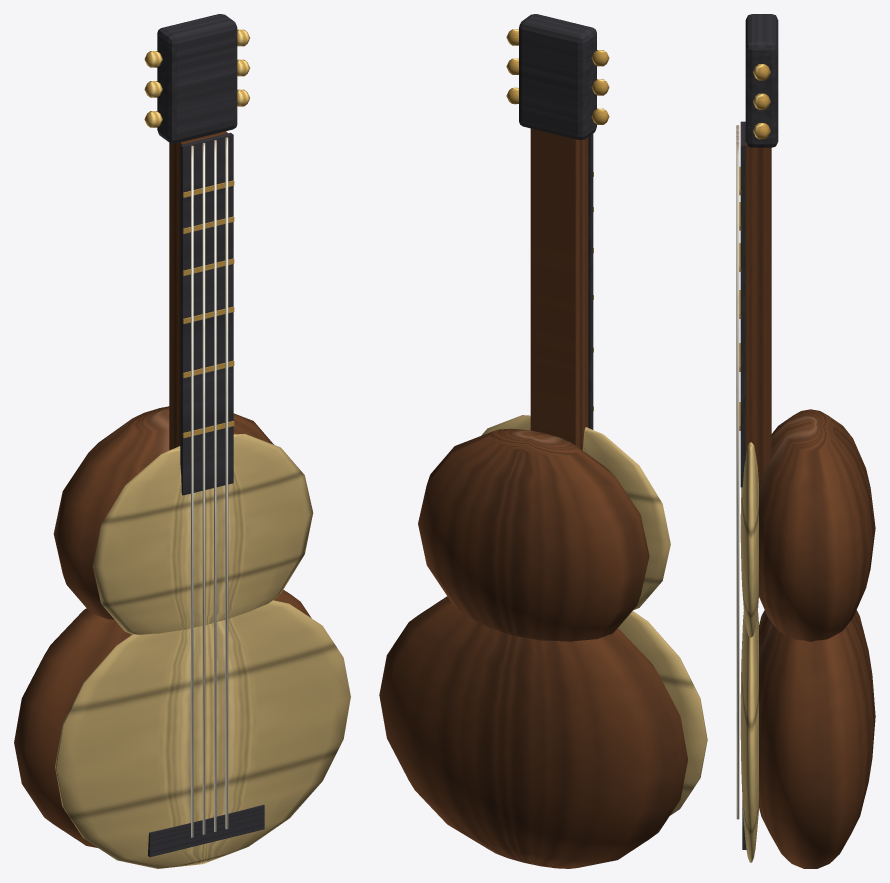
File: guitar.glb
3 views of the same model, side by side, from view 1: azimuth 30°, elevation 25°; view 2: azimuth 150°, elevation 25°; view 3: azimuth 270°, elevation 25° (orthographic). The views are drawn at different scales.
Visible parts, largest first — view 1: GuitarBody; view 2: GuitarBody; view 3: GuitarBody.
Part boxes in pixels (x1=…): GuitarBody: x1=14, y1=14, x2=350, y2=868; GuitarBody: x1=379, y1=14, x2=707, y2=868; GuitarBody: x1=736, y1=14, x2=875, y2=868.
Bounding box in the file's own units: 0.0266 × 0.07 × 0.0107.
1 material, 1 textured.
